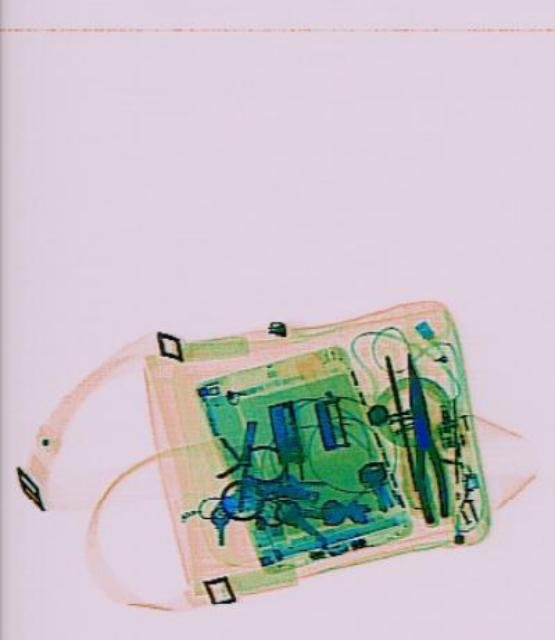Pliers: (392, 351, 451, 524)
